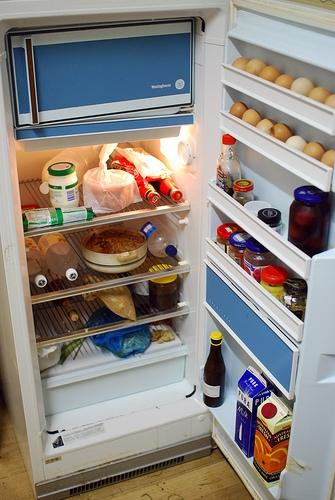green onion: (73, 340, 85, 360)
